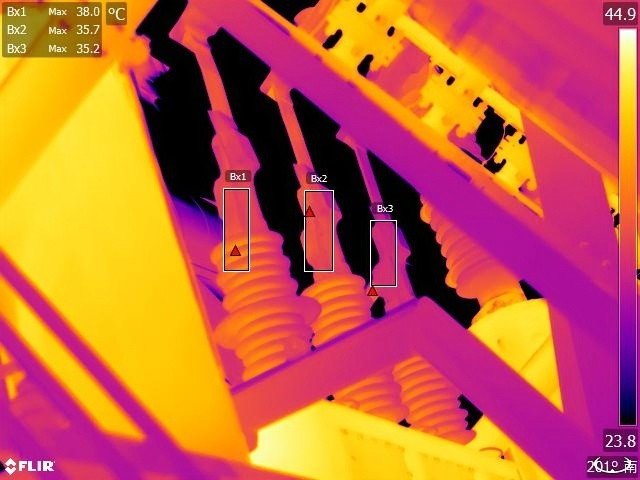post insulator: (208, 212, 323, 420), (305, 268, 406, 428), (409, 196, 533, 294), (386, 312, 473, 449)
